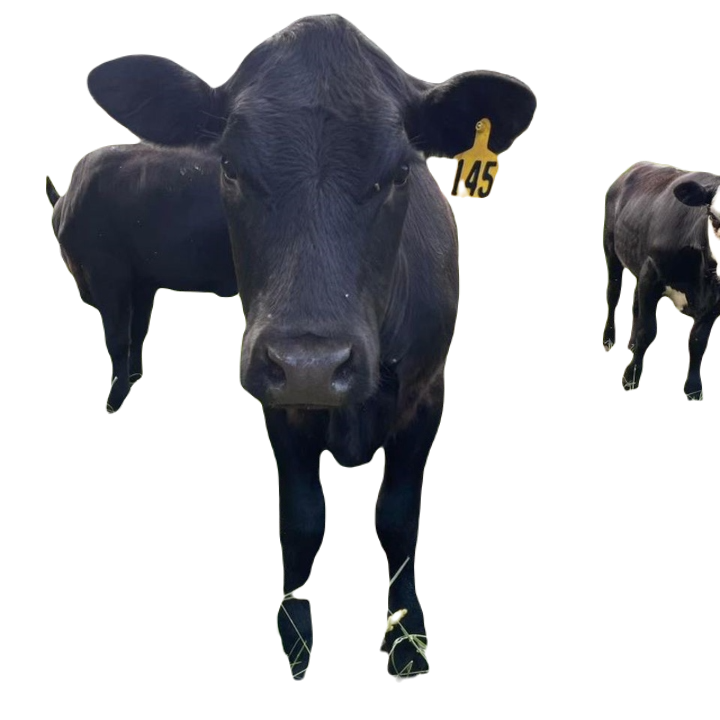Cow: (82, 16, 535, 689)
